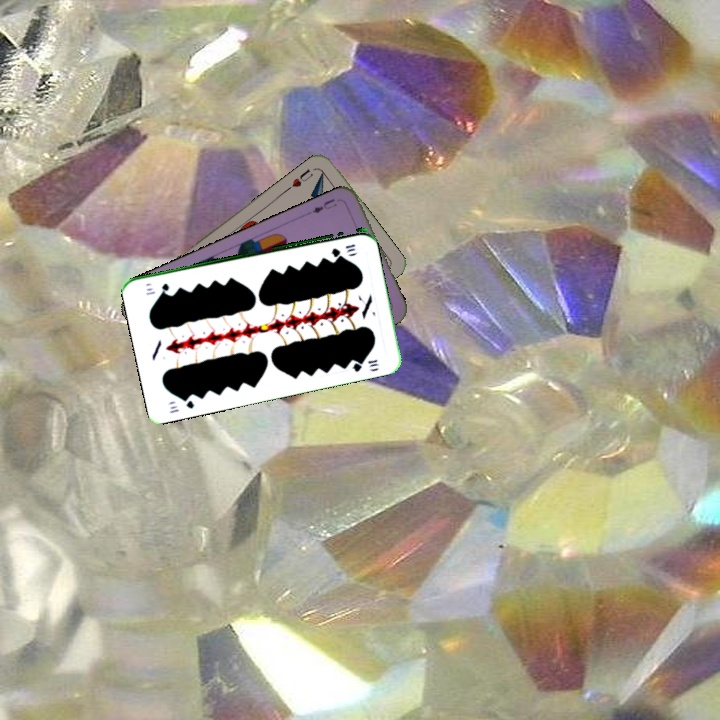EU: (308, 195, 340, 216)
G10: (165, 392, 197, 416), (327, 240, 358, 258)
HU: (283, 165, 316, 193)
